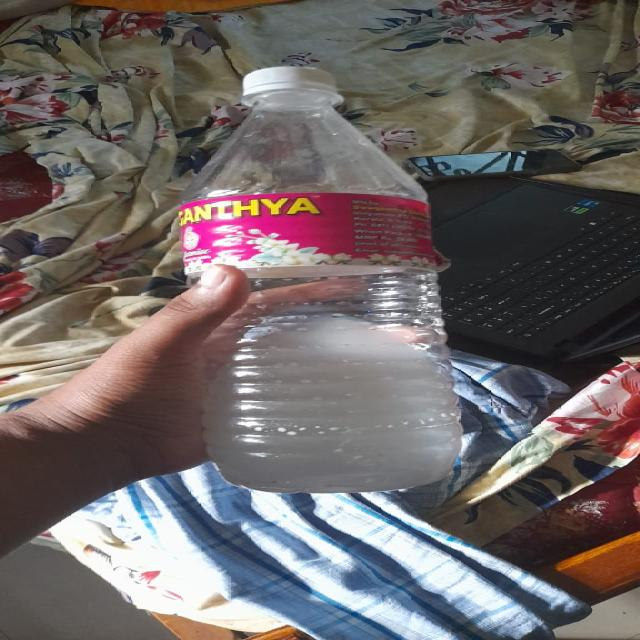Plastic - Recyclable: (174, 66, 466, 494)
